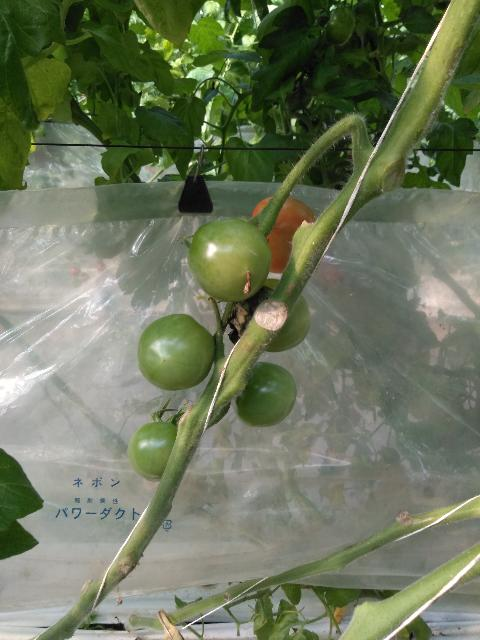l_green: (187, 215, 271, 303), (137, 314, 215, 391), (238, 278, 311, 352), (235, 363, 297, 428), (127, 422, 178, 482)
l_half_ripened: (252, 196, 316, 274)
